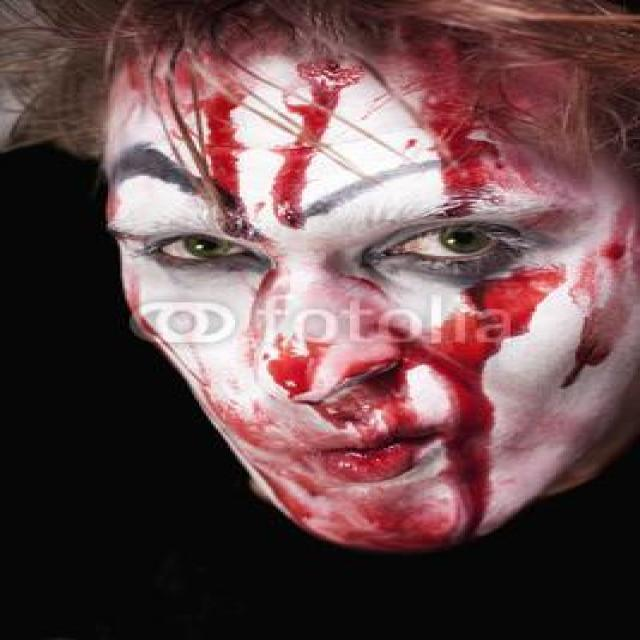flood: (188, 48, 350, 245)
